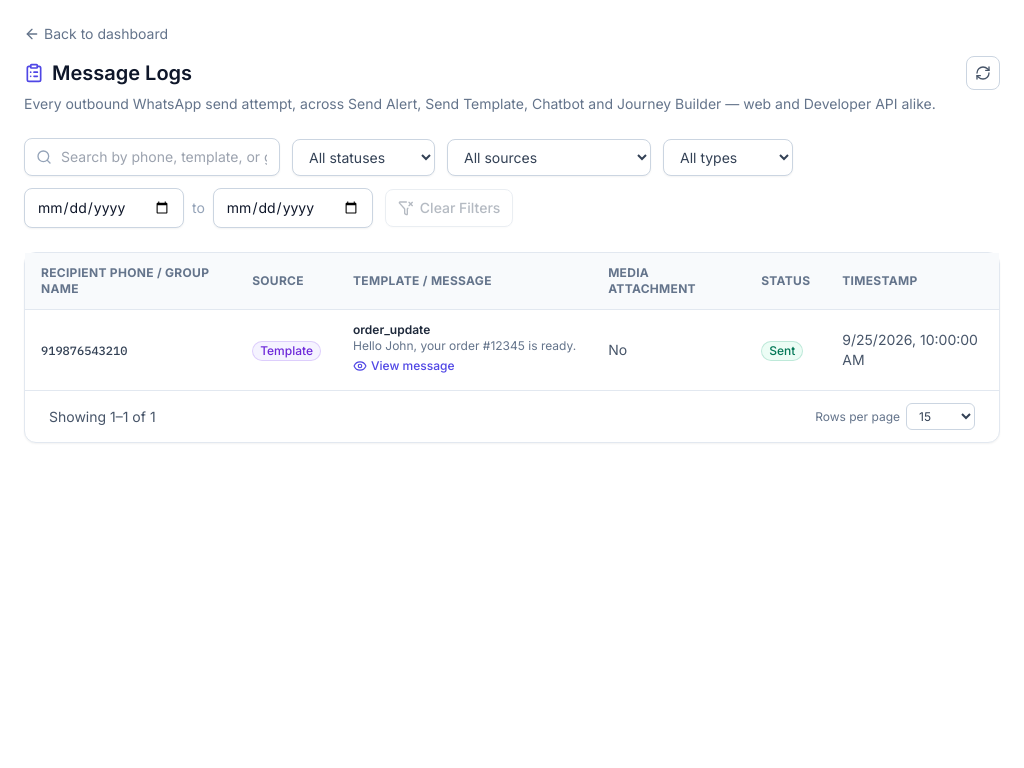
Message Logs list › shows an error state when the detail API fails, and the page stays usable after closing
Click the button with aria-label "View message 1": (404, 366) [353,358,454,374]
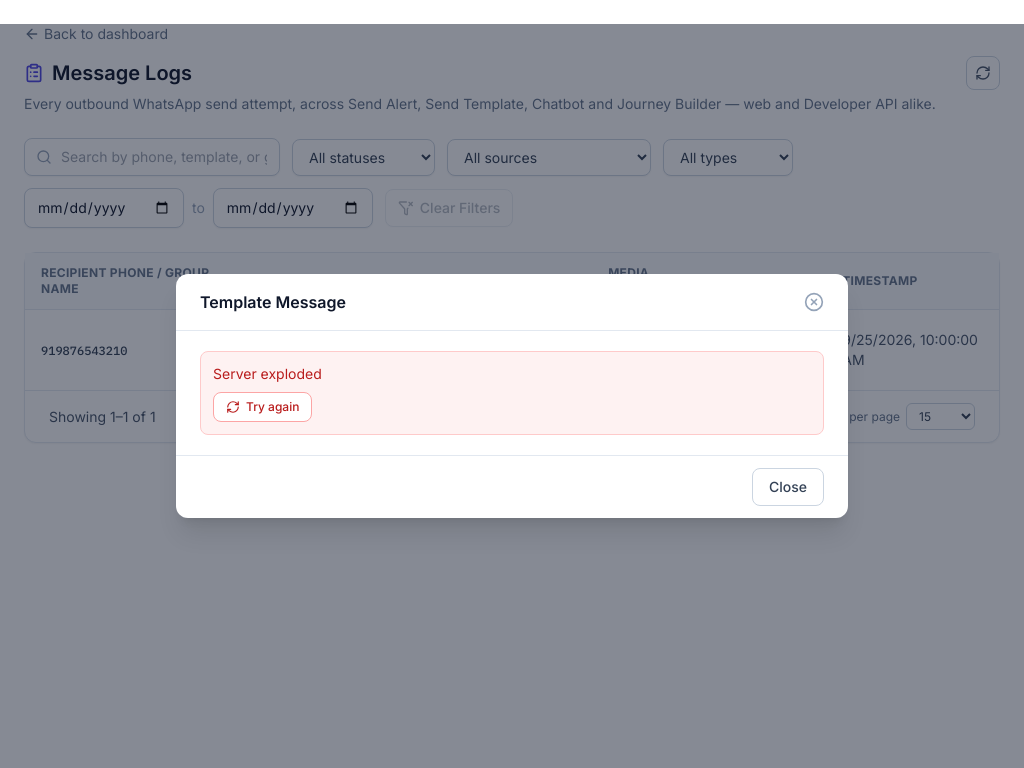
Expected: the text "order_update" is shown, [353,322,430,337]
Expected: the message shows "Server exploded", [213,365,322,382]
Click the button "Close": (788, 487) [752,468,824,506]
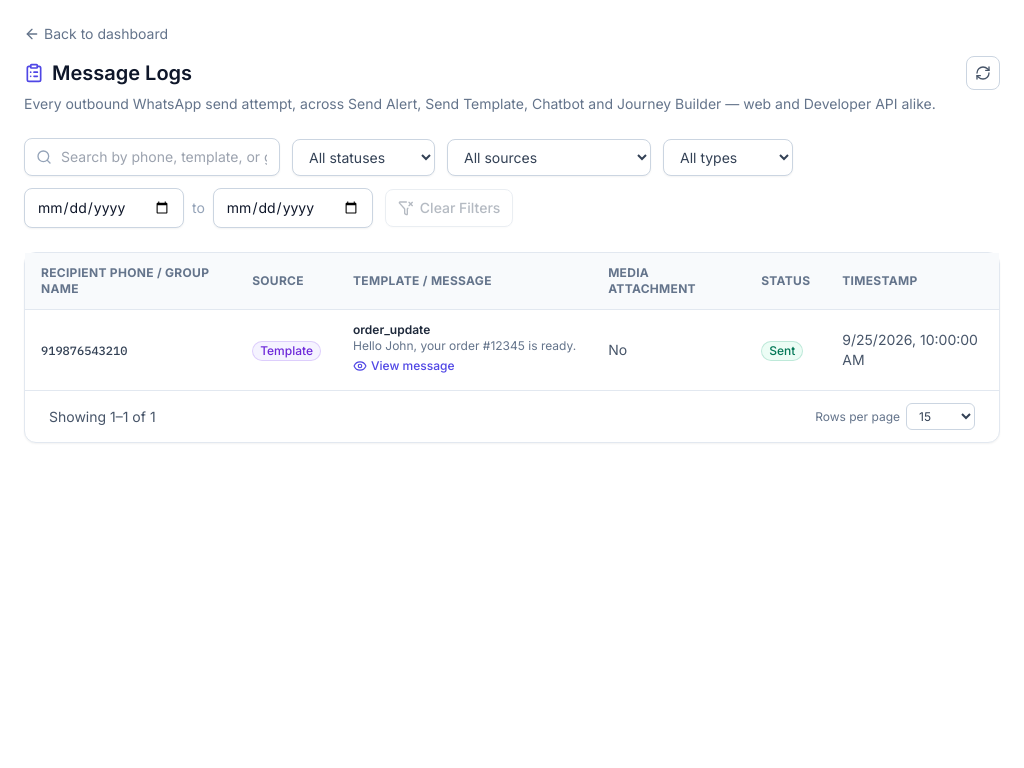
Expected: the button with aria-label "View message 1" is shown, [353,358,454,374]
Expected: the dialog is gone
